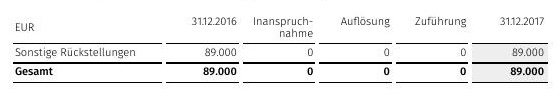table: (0, 0, 557, 93)
